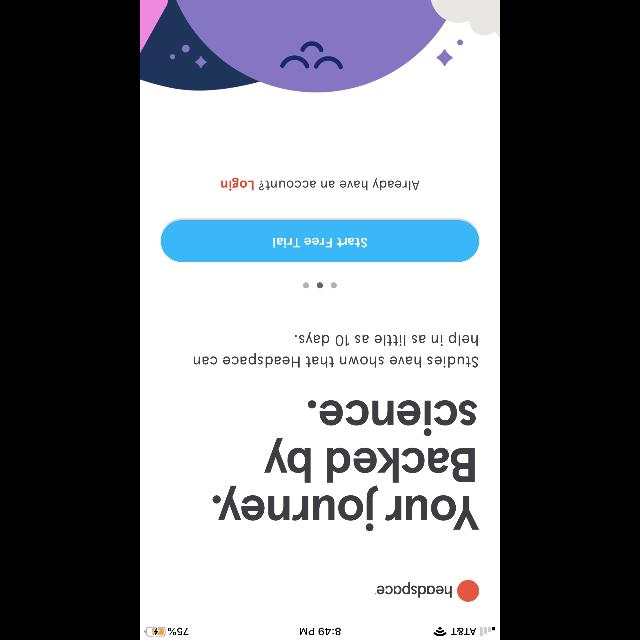image: (141, 1, 499, 93), (457, 580, 479, 602)
pageindicator: (304, 282, 336, 288)
text: (213, 401, 479, 532), (194, 332, 478, 368), (259, 178, 419, 190), (374, 582, 452, 598), (221, 178, 253, 190)
textbutton: (161, 220, 479, 262)
uppertaskbar: (140, 626, 500, 640)
